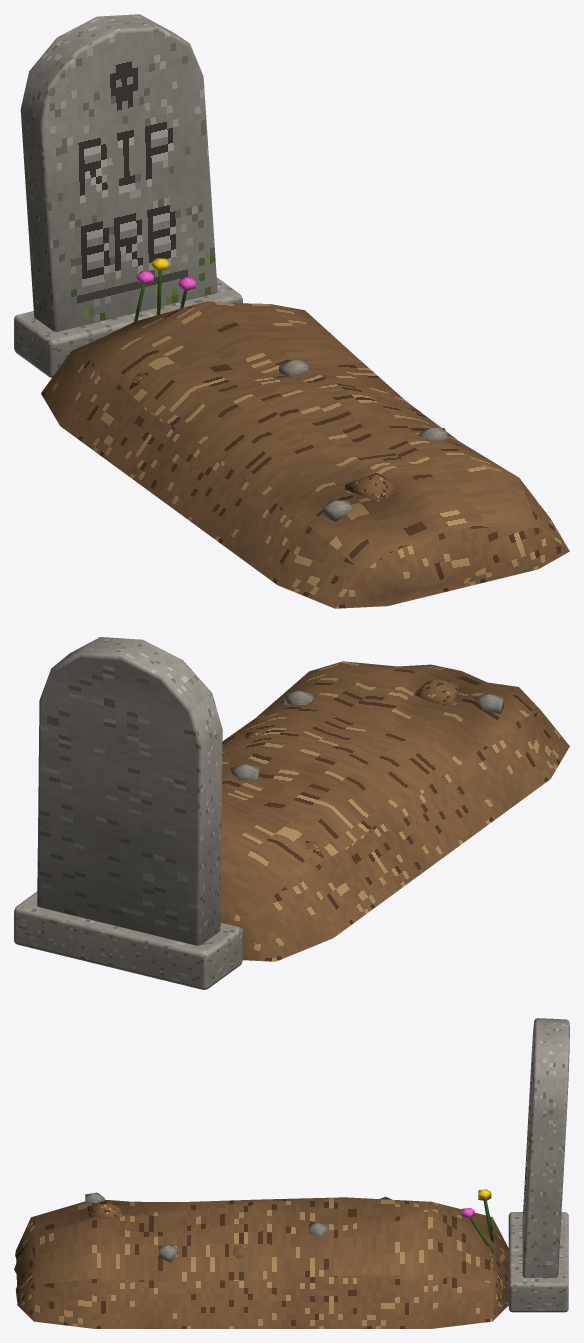
The model's file is p_grave.glb.
The picture shows the model from 3 angles, top to bottom: view 1: azimuth 30°, elevation 25°; view 2: azimuth 150°, elevation 25°; view 3: azimuth 270°, elevation 25°; orthographic projection. The views are drawn at different scales.
Visible parts, largest first — view 1: p_grave_lod0; view 2: p_grave_lod0; view 3: p_grave_lod0.
Part boxes in pixels (<box>): p_grave_lod0: <box>14,14,569,608</box>; p_grave_lod0: <box>14,637,569,989</box>; p_grave_lod0: <box>14,1018,569,1328</box>.
Size of what is drawn, in the model's own units: 0.9 by 1 by 2.04.
1 material, 1 textured.
